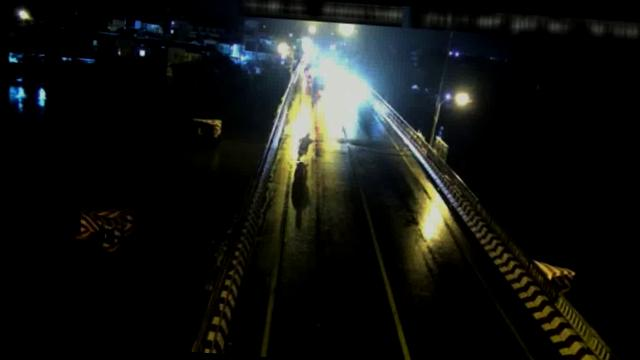Bike: (297, 131, 314, 163)
